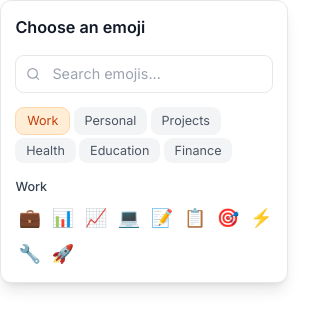
EmojiPicker › shows no results message for invalid search
This screenshot has width=320, height=309.
Type "nonexistent" into the field with placeholder "Search emojis..." at (144, 74), box [15,55,273,93]
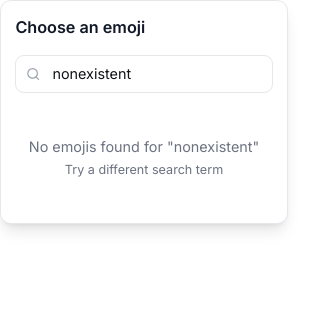
Expected: the text "No emojis found for \"nonexistent\"" is shown, [15,136,273,158]
Expected: the text "Try a different search term" is shown, [65,162,223,177]
